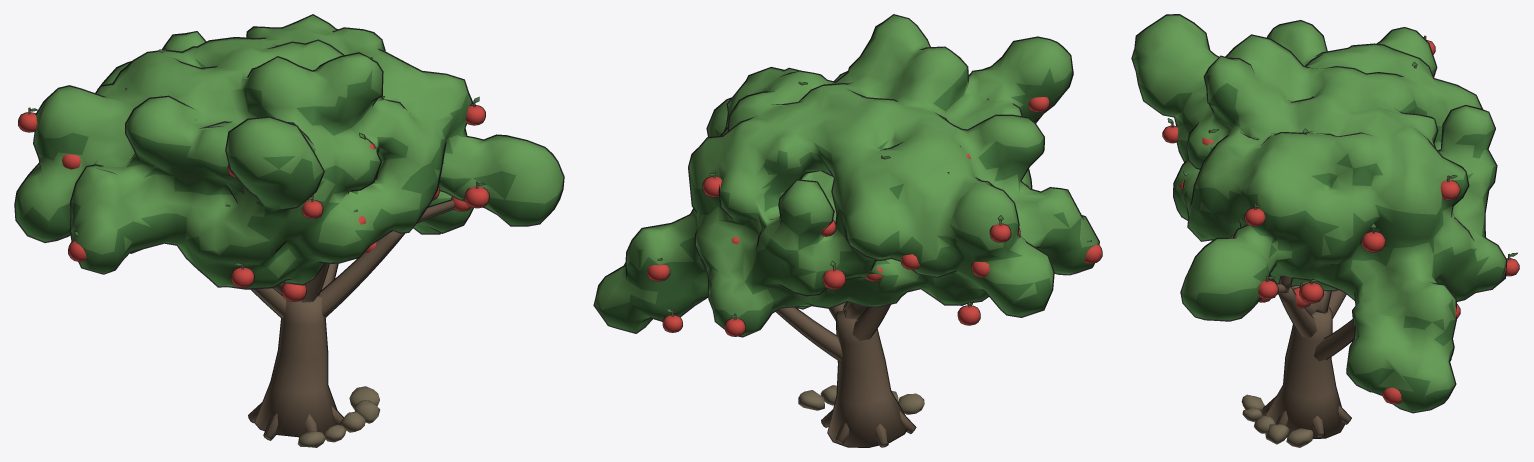
Rendered from AppleTreeGround.fbx.
3 renders of one model, left to right at view 1: azimuth 30°, elevation 25°; view 2: azimuth 150°, elevation 25°; view 3: azimuth 270°, elevation 25°, orthographic. The views are drawn at different scales.
Visible parts, largest first — view 1: AppleTree_Canopy, AppleTree_Wood, AppleTree_Fruit; view 2: AppleTree_Canopy, AppleTree_Wood, AppleTree_Fruit; view 3: AppleTree_Canopy, AppleTree_Wood, AppleTree_Fruit, AppleTree_Clod_00.
Boxes of the visible parts, left/top/right/bottom form: AppleTree_Canopy: left=14, top=14, right=564, bottom=289; AppleTree_Wood: left=248, top=199, right=454, bottom=440; AppleTree_Fruit: left=18, top=48, right=489, bottom=301; AppleTree_Canopy: left=593, top=14, right=1099, bottom=337; AppleTree_Wood: left=775, top=302, right=916, bottom=447; AppleTree_Fruit: left=647, top=81, right=1102, bottom=336; AppleTree_Canopy: left=1131, top=14, right=1507, bottom=413; AppleTree_Wood: left=1261, top=275, right=1354, bottom=438; AppleTree_Fruit: left=1162, top=35, right=1519, bottom=404; AppleTree_Clod_00: left=1286, top=428, right=1313, bottom=447.
Size of what is drawn, in the model's own units: 754 by 636 by 604.
